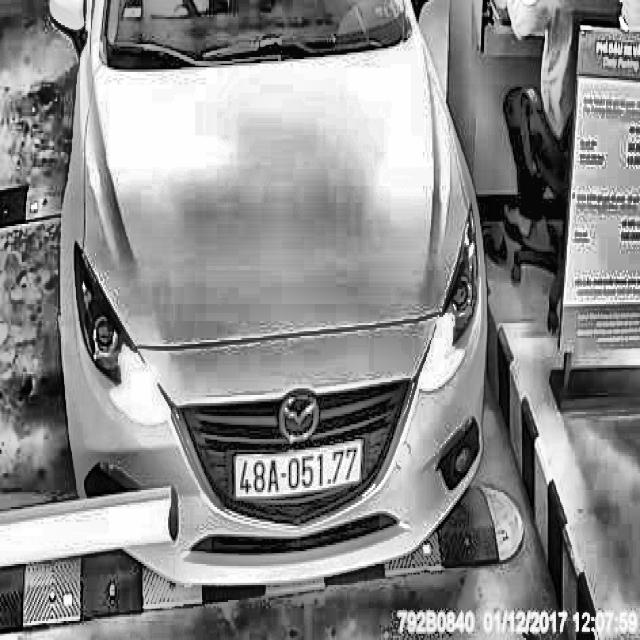plate: (231, 440, 368, 507)
